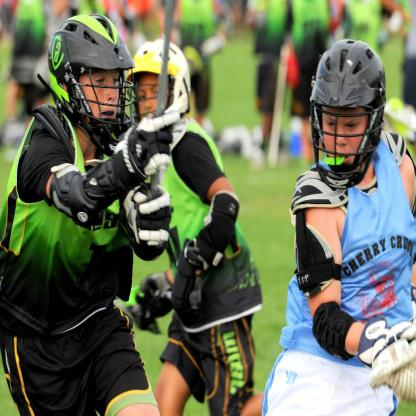Helmet: (309, 38, 387, 190), (47, 19, 127, 138), (126, 38, 191, 123)
